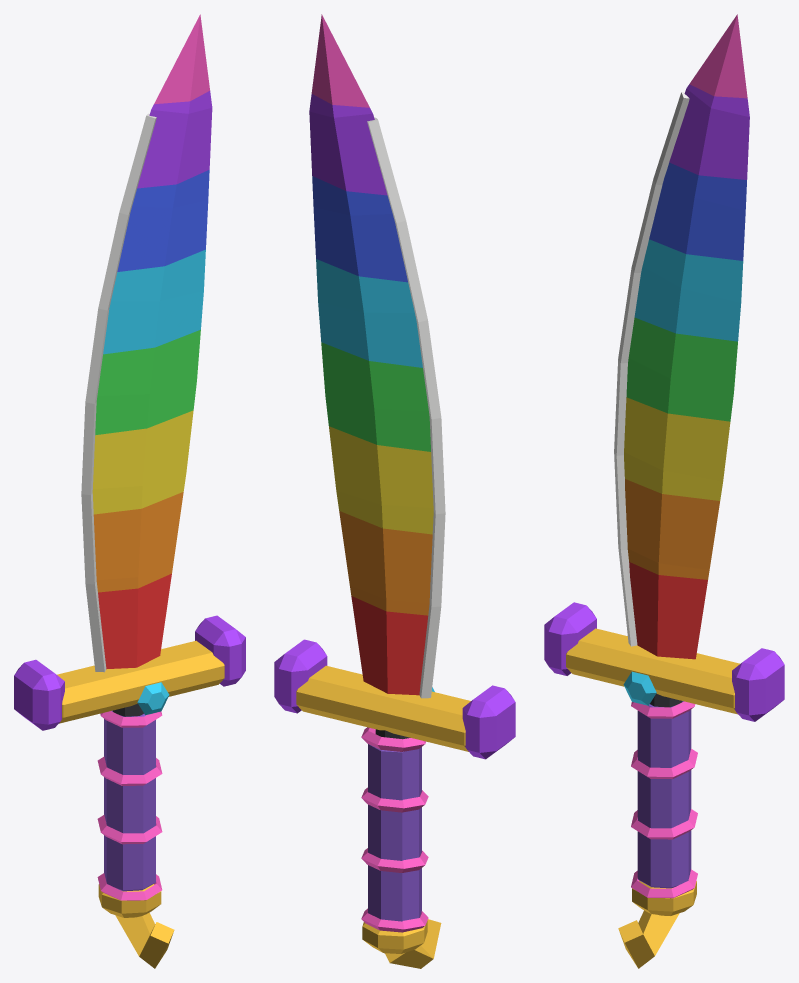
Rendered from RainbowScimitar.fbx.
The picture shows the model from 3 angles, left to right: view 1: azimuth 30°, elevation 25°; view 2: azimuth 150°, elevation 25°; view 3: azimuth 330°, elevation 25°; orthographic projection. The views are drawn at different scales.
Visible parts, largest first — view 1: RainbowScimitar; view 2: RainbowScimitar; view 3: RainbowScimitar.
Boxes of the visible parts, left/top/right/bottom form: RainbowScimitar: left=14, top=14, right=245, bottom=968; RainbowScimitar: left=274, top=14, right=515, bottom=968; RainbowScimitar: left=544, top=14, right=784, bottom=968.
Bounding box in the file's own units: 1.06 × 4.37 × 0.4747.
Materials: 1 (1 with a texture image).
